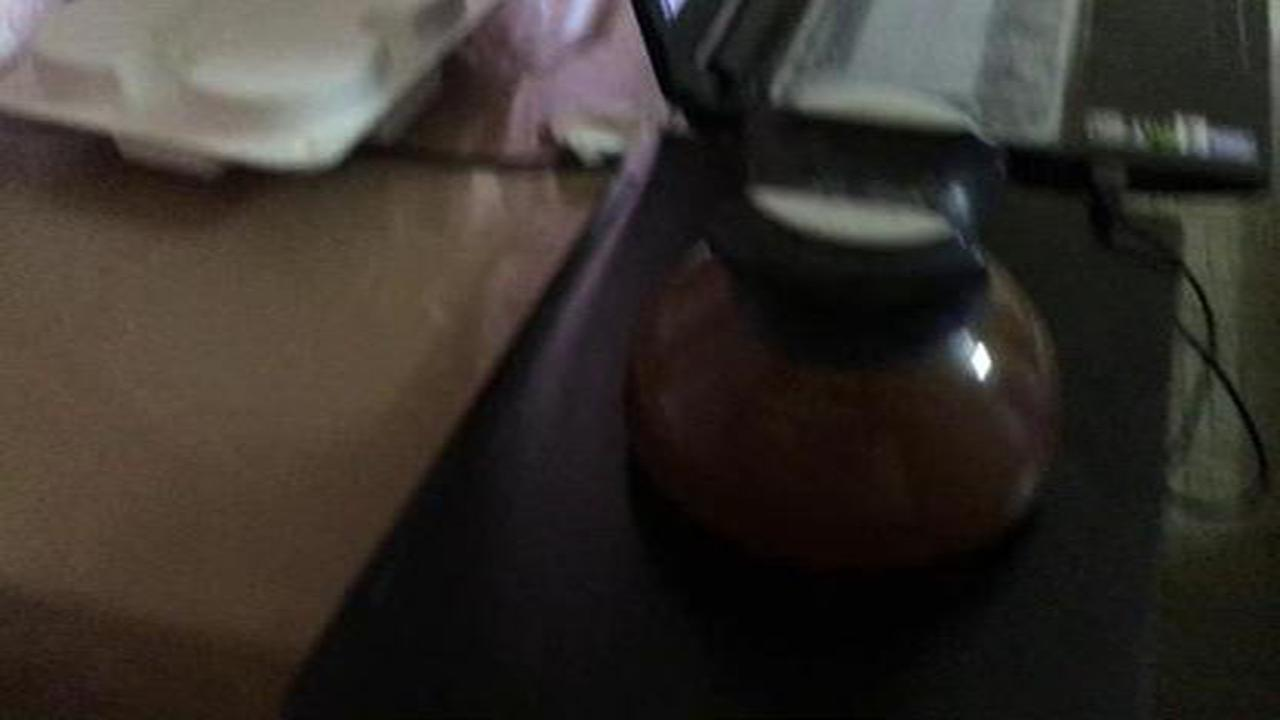insulator_pin: (613, 66, 1093, 601)
